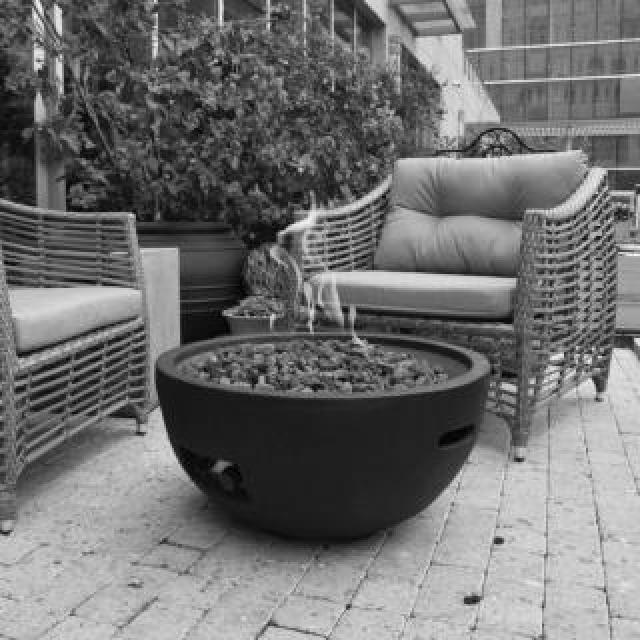Fire: (274, 184, 374, 352)
